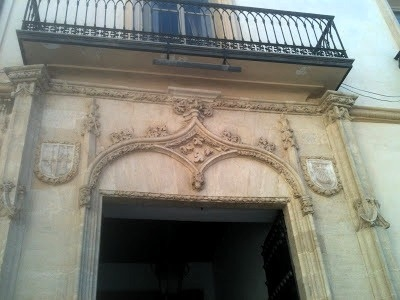arco-conopial: (76, 114, 308, 192)
